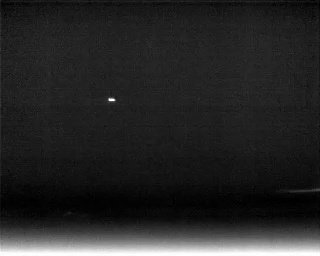AIRPLANE: (106, 95, 118, 104)
